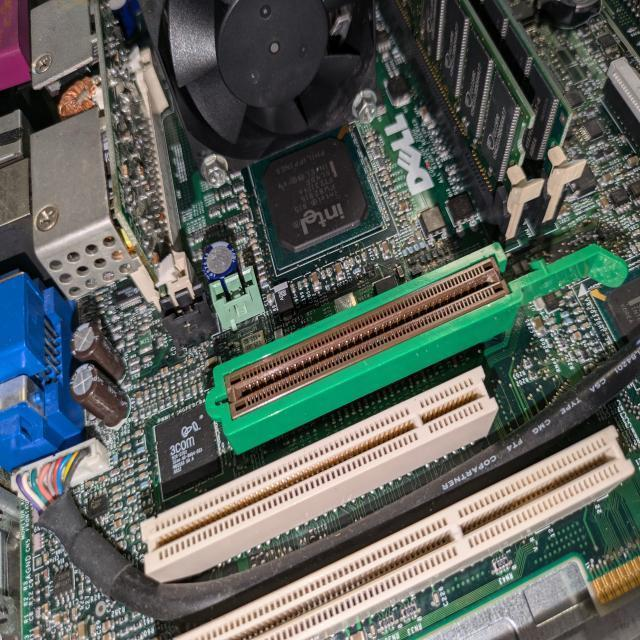CPU_Fan: (125, 0, 389, 159)
RAM: (382, 0, 534, 257), (469, 0, 576, 265)
